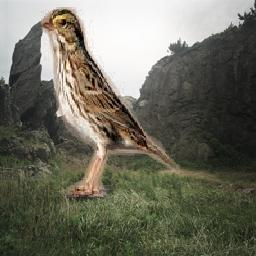Sparrow: (42, 7, 181, 197)
